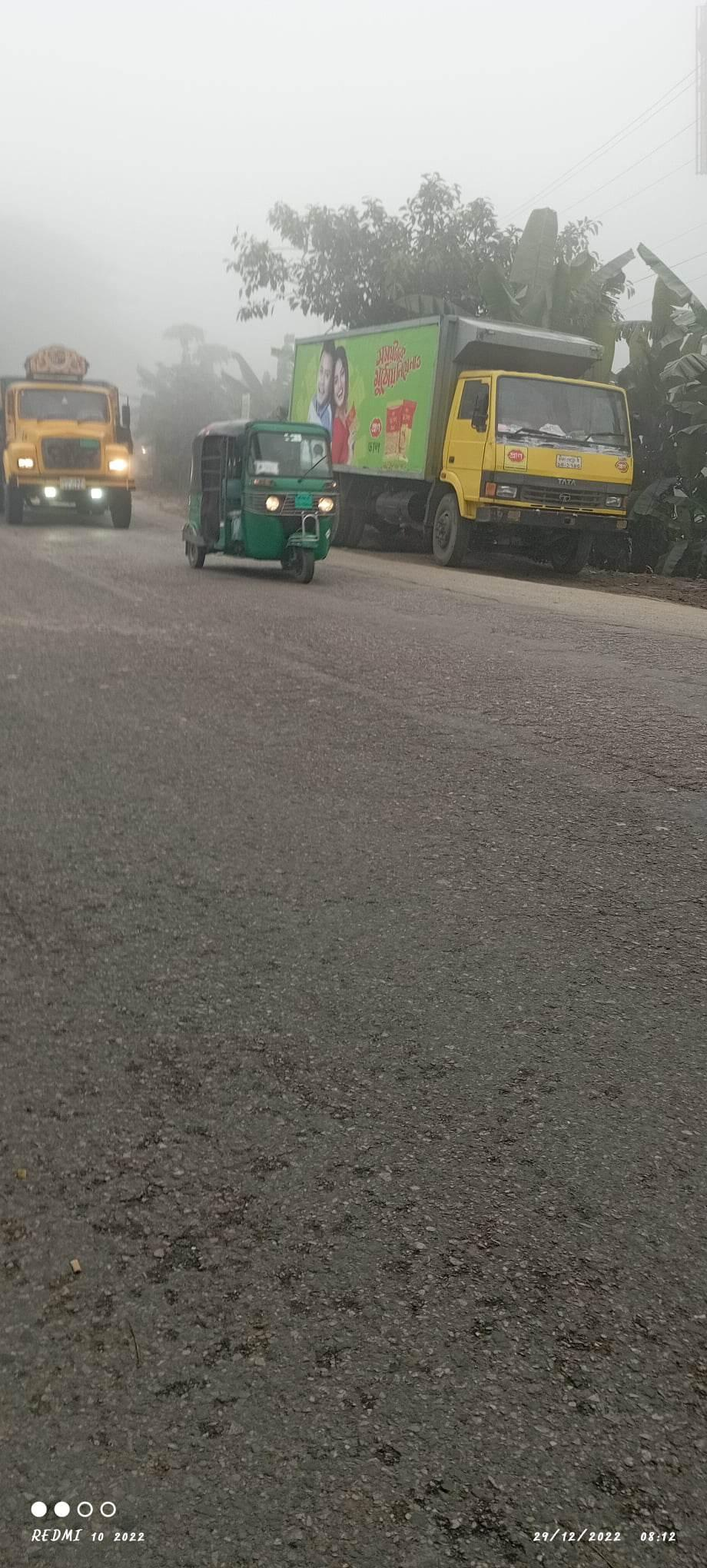Truck: (284, 319, 646, 594), (5, 336, 151, 555)
